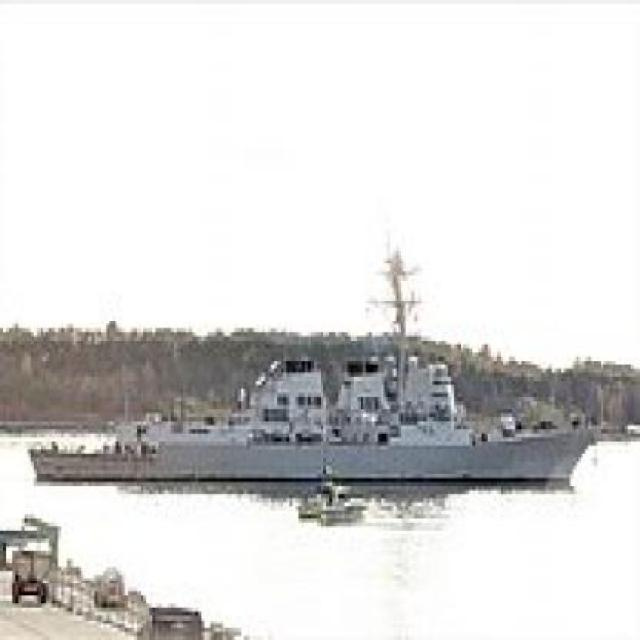warship2: (13, 309, 611, 511)
